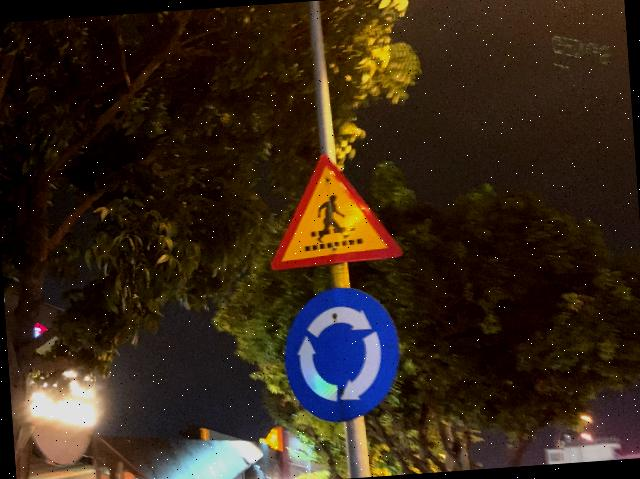duong-nguoi-di-bo-cat-ngang: (264, 146, 404, 270)
noi-giao-nhau-chay-theo-vong-xuyen: (280, 282, 405, 426)
